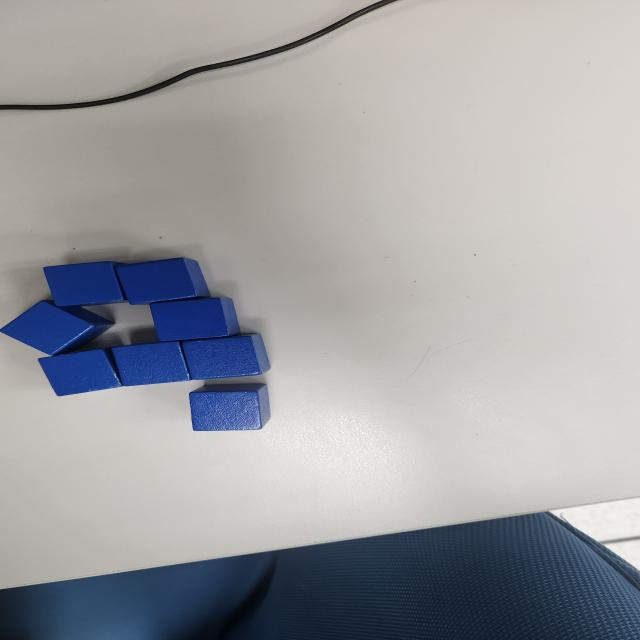blue: (0, 297, 115, 358), (115, 257, 212, 306), (37, 348, 124, 398), (180, 333, 272, 380), (148, 297, 242, 342), (41, 260, 130, 307), (188, 384, 272, 432), (109, 341, 191, 386)
